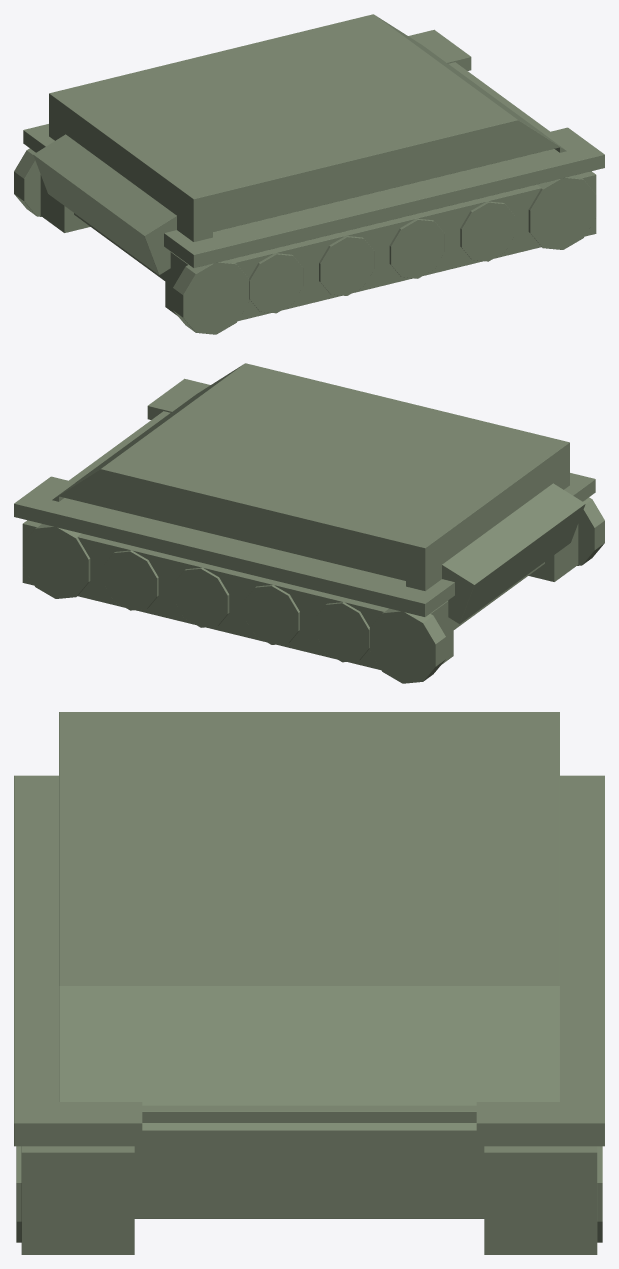
The model's file is tank_fr.glb.
3 renders of one model, top to bottom at view 1: azimuth 30°, elevation 25°; view 2: azimuth 150°, elevation 25°; view 3: azimuth 270°, elevation 25°, orthographic. The views are drawn at different scales.
Visible parts, largest first — view 1: tank_fr; view 2: tank_fr; view 3: tank_fr.
Part boxes in pixels (<box>): tank_fr: <box>14,14,604,334</box>; tank_fr: <box>14,363,604,683</box>; tank_fr: <box>14,712,604,1254</box>.
Size of the model in its own units: 3.35 by 0.96 by 2.3.
